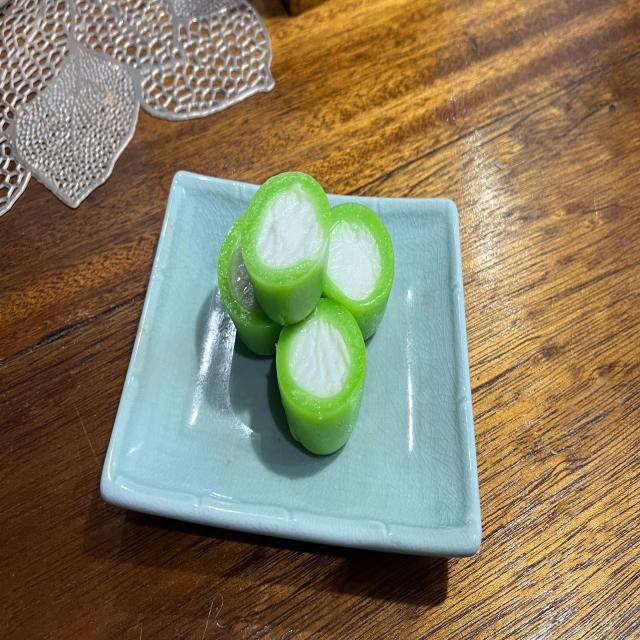nona-manis: (276, 298, 366, 456), (241, 171, 330, 327), (322, 202, 394, 340), (218, 216, 281, 356)
